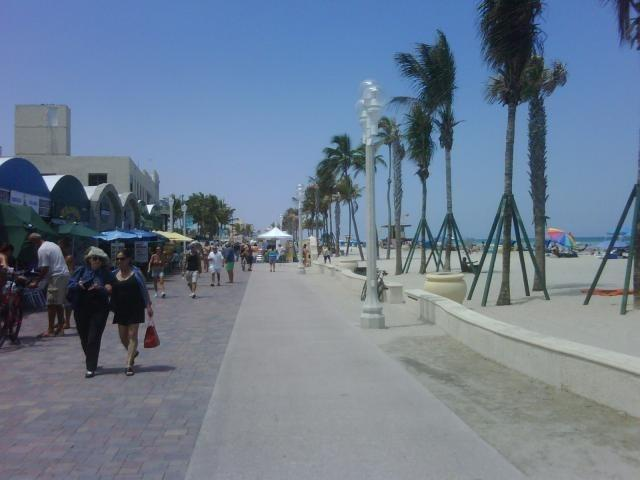non-vehicle: (0, 267, 40, 347), (359, 265, 387, 302)
